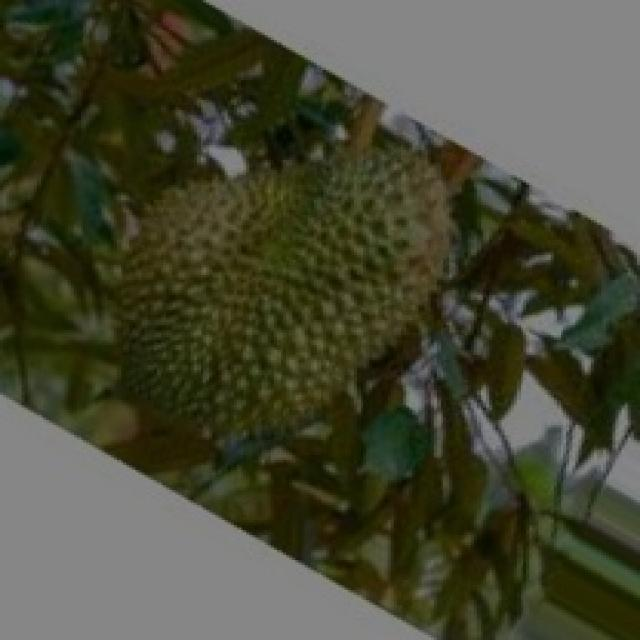fruit: (34, 102, 455, 518)
